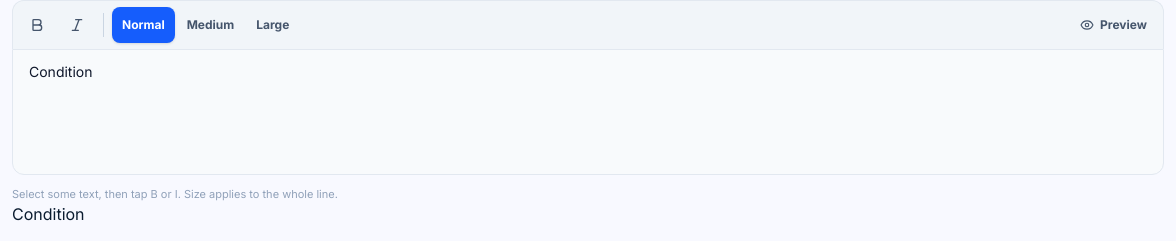
FormattedTextarea › sizes the line the caret is on
What coordinates should you click on to do the following:
click the button "Large"
I would click on:
 (273, 25)
Its box is [246,7,299,43].
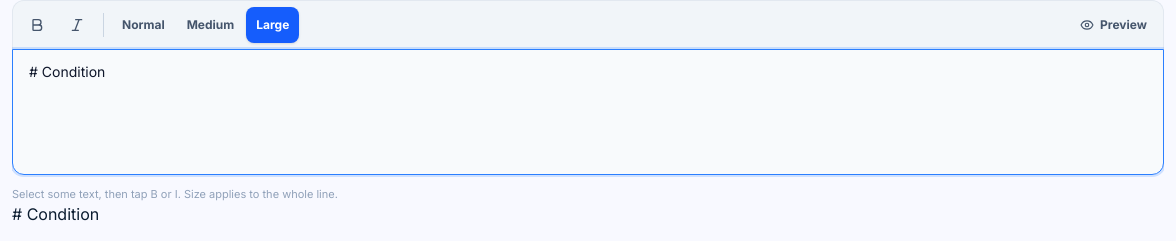
Result: the text with test id "value" reads "# Condition" at [12,204,99,224]
